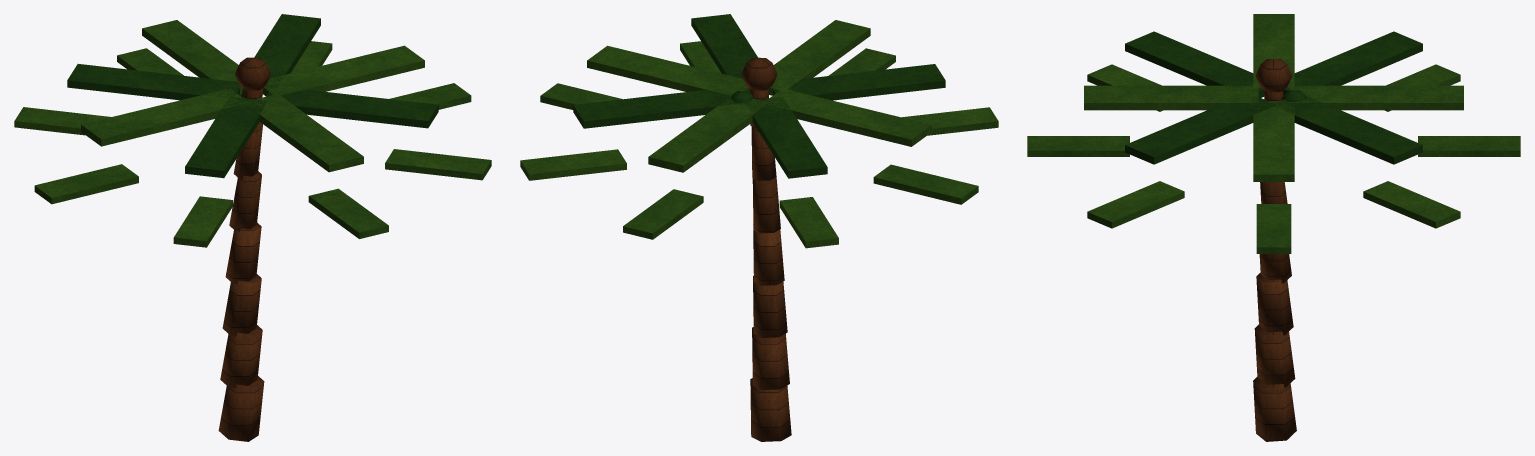
The model's file is tree_palm.glb.
The picture shows the model from 3 angles, left to right: view 1: azimuth 30°, elevation 25°; view 2: azimuth 150°, elevation 25°; view 3: azimuth 270°, elevation 25°; orthographic projection.
Visible parts, largest first — view 1: tree_palm; view 2: tree_palm; view 3: tree_palm.
Boxes of the visible parts, box(x1,y1,x2,y2) form: tree_palm: box(14, 14, 491, 441); tree_palm: box(520, 14, 998, 441); tree_palm: box(1027, 14, 1520, 441).
Bounding box in the file's own units: 2.4 × 2.05 × 2.4.
3 materials, 3 textured.
